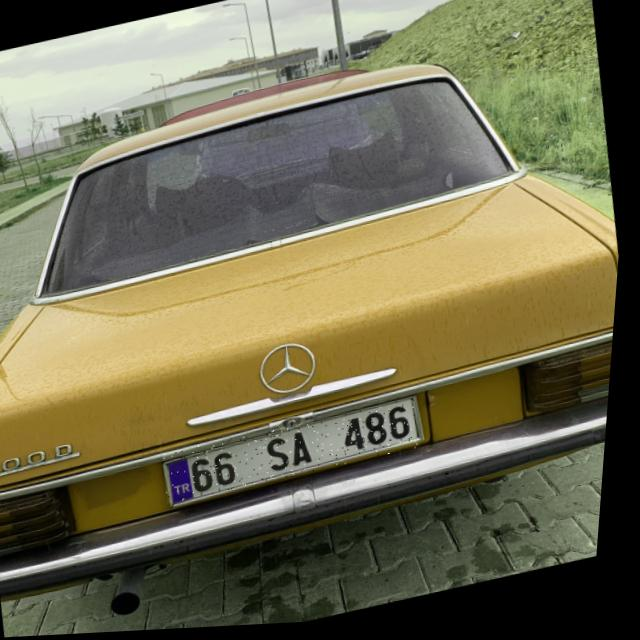license_plate: (166, 402, 430, 506)
